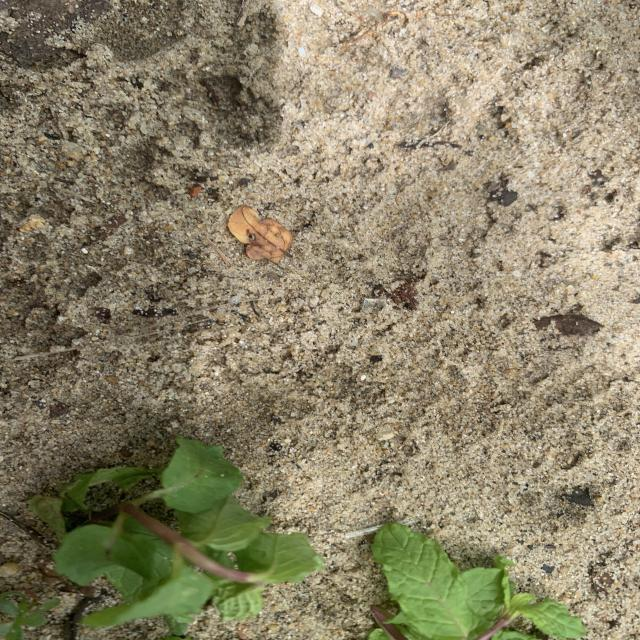crop: (28, 436, 322, 634), (371, 524, 586, 639)
weed: (1, 589, 59, 639)
